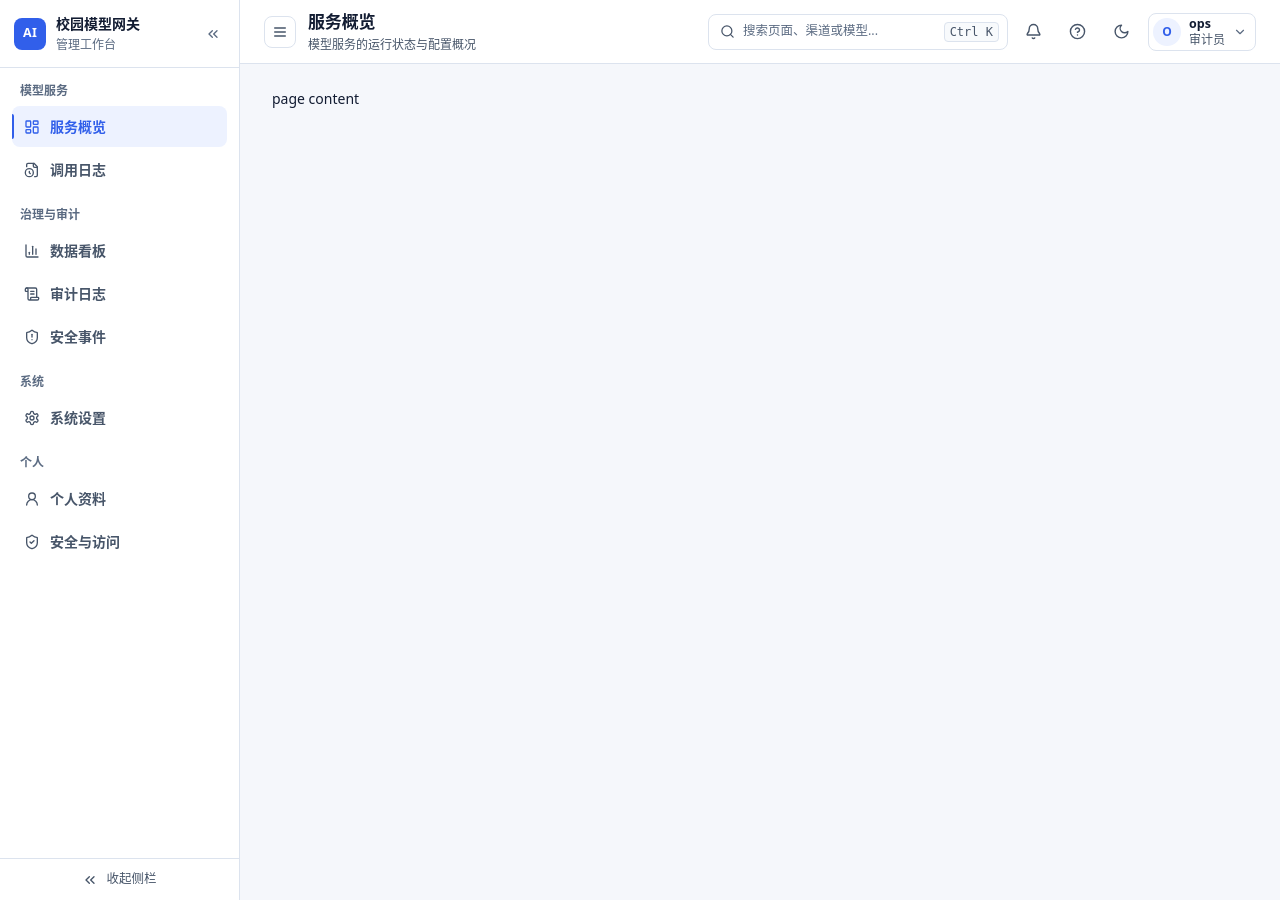
Shell notification surface › shows an honest empty state when the gateway has recorded no security events
The image size is (1280, 900).
Click the button named "系统通知" at (1034, 32), box top-left (1016, 14), bottom-right (1052, 50)
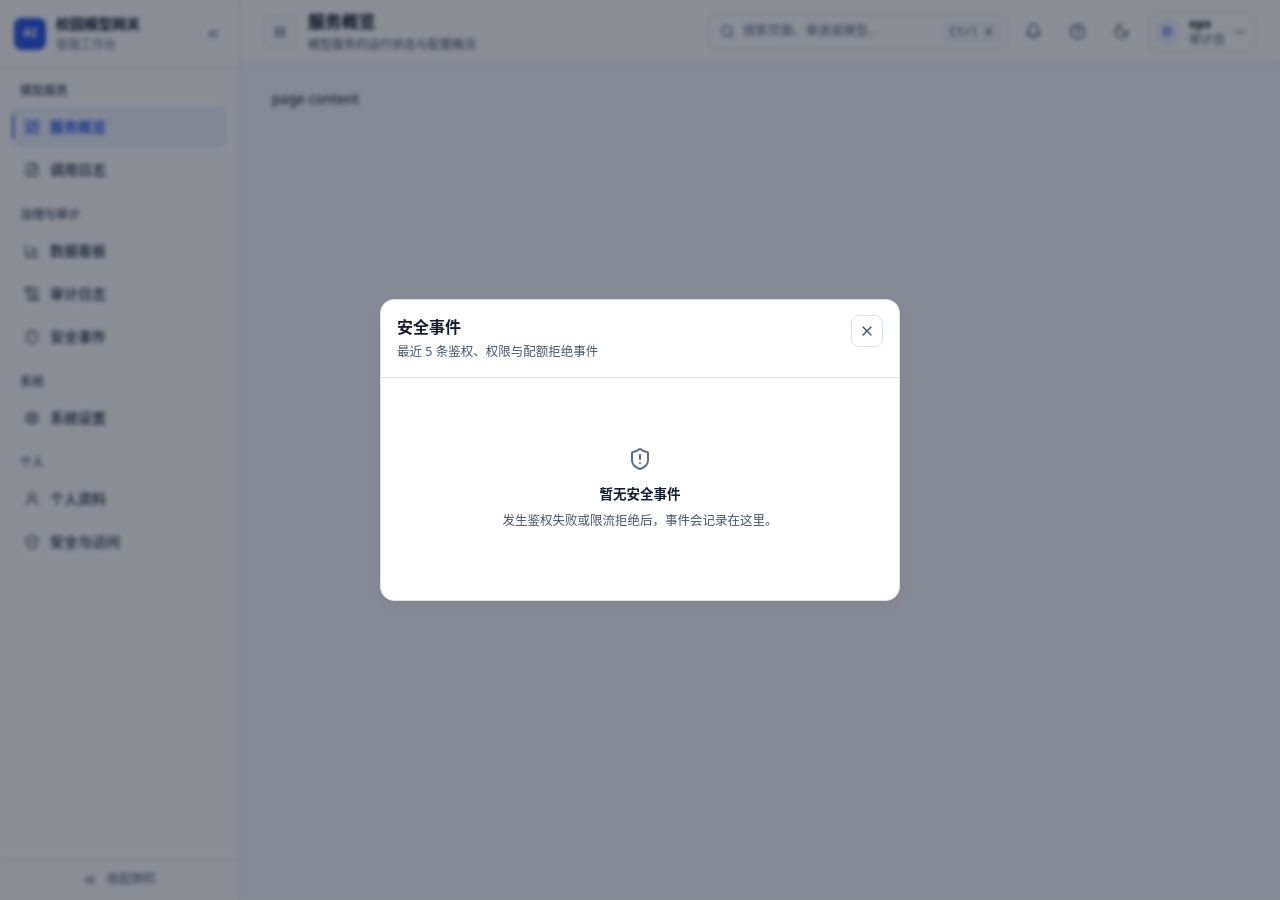
Expected: the text "暂无安全事件" is shown, top-left (600, 484), bottom-right (680, 504)
